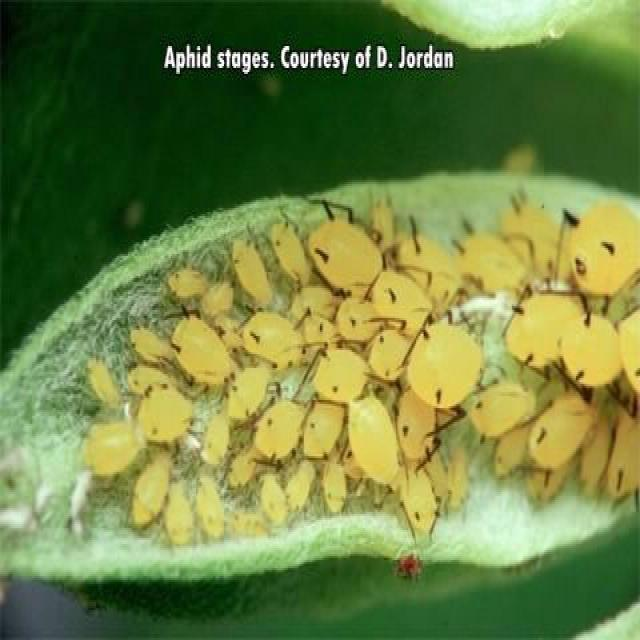Aphid-Grouped-: (84, 208, 630, 539)
Aphid-Grown-: (398, 310, 490, 420), (501, 274, 592, 373), (302, 198, 391, 297), (337, 383, 409, 497), (166, 300, 241, 396), (468, 371, 550, 446), (300, 339, 390, 407), (233, 295, 309, 375), (122, 444, 190, 530), (221, 226, 278, 313), (388, 463, 446, 544), (248, 390, 306, 470), (131, 382, 201, 448), (263, 209, 315, 295)
